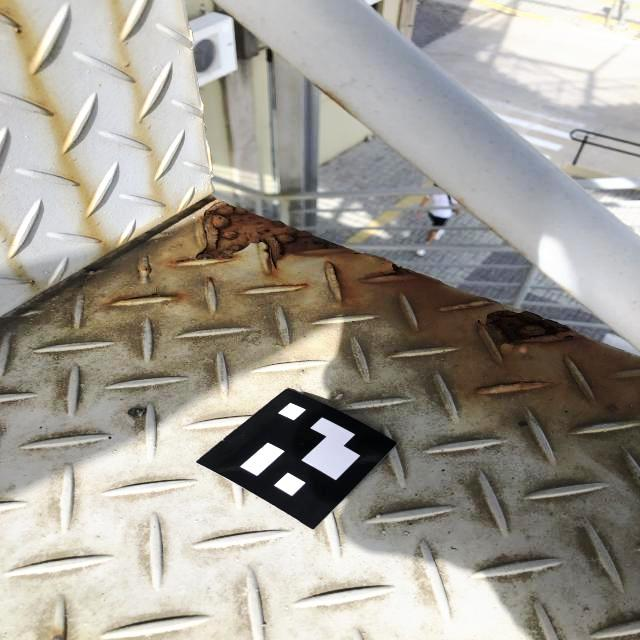Corrosion: (195, 200, 360, 274), (484, 311, 589, 352), (108, 286, 179, 304), (378, 262, 414, 276), (328, 262, 340, 288), (171, 257, 191, 265), (208, 276, 213, 284)
